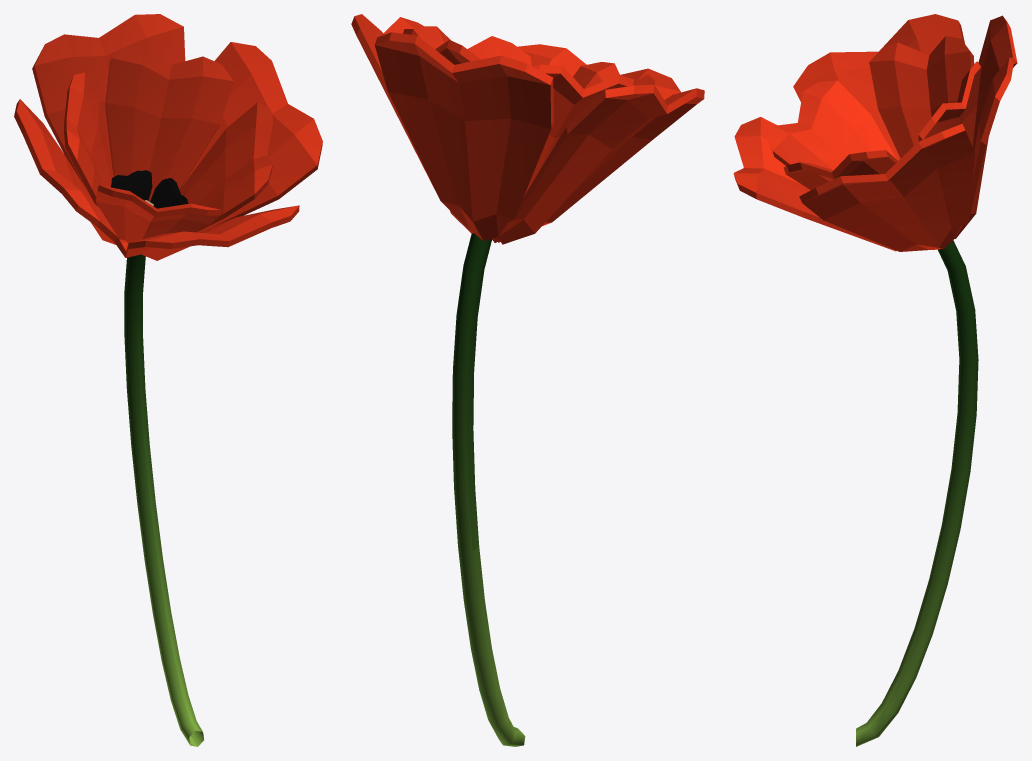
The model's file is Flower03A.fbx.
3 renders of one model, left to right at view 1: azimuth 30°, elevation 25°; view 2: azimuth 150°, elevation 25°; view 3: azimuth 270°, elevation 25°, orthographic. The views are drawn at different scales.
Visible parts, largest first — view 1: Flower03A_LOD0; view 2: Flower03A_LOD0; view 3: Flower03A_LOD0.
Part boxes in pixels (x1,y1,x2,y2): Flower03A_LOD0: [14, 14, 322, 746]; Flower03A_LOD0: [351, 14, 704, 746]; Flower03A_LOD0: [733, 14, 1017, 746].
Size of what is drawn, in the model's own units: 44.87 by 112 by 41.58.
